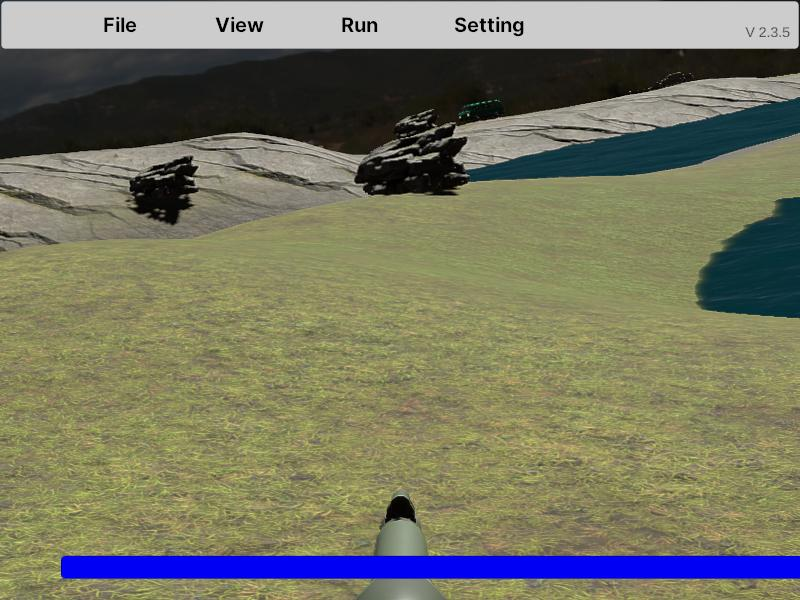car: (458, 98, 504, 124)
